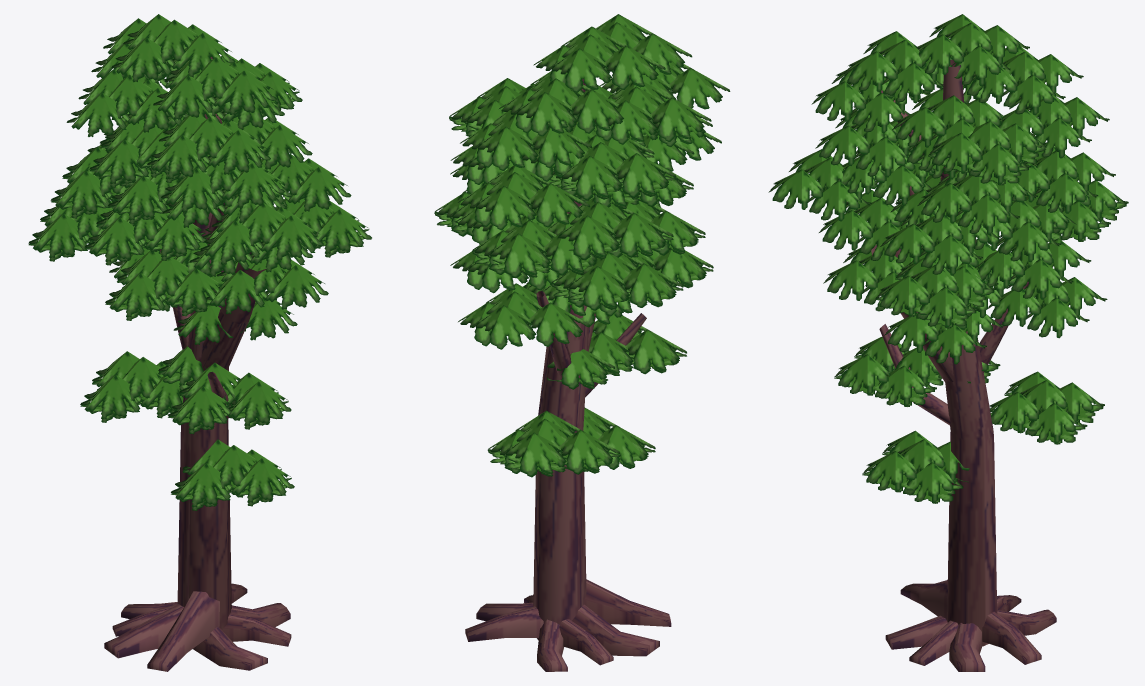
File: Arvore3.fbx
3 views of the same model, side by side, from view 1: azimuth 30°, elevation 25°; view 2: azimuth 150°, elevation 25°; view 3: azimuth 270°, elevation 25° (orthographic). The views are drawn at different scales.
Visible parts, largest first — view 1: Folhas, ArvoreDeFolhasPequenas; view 2: Folhas, ArvoreDeFolhasPequenas; view 3: Folhas, ArvoreDeFolhasPequenas.
Part boxes in pixels (left/top/right/bottom): Folhas: left=28, top=14, right=371, bottom=510; ArvoreDeFolhasPequenas: left=104, top=57, right=291, bottom=671; Folhas: left=434, top=14, right=730, bottom=477; ArvoreDeFolhasPequenas: left=465, top=79, right=671, bottom=671; Folhas: left=768, top=14, right=1128, bottom=503; ArvoreDeFolhasPequenas: left=871, top=60, right=1056, bottom=671.
Size of the model in its own units: 484 by 1015 by 552.
